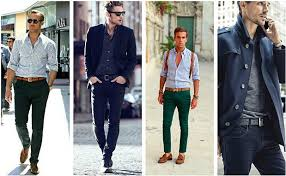F_M_suit jacket: (85, 19, 140, 87)
F_belt: (234, 114, 274, 127), (12, 76, 50, 85), (162, 85, 192, 96), (95, 74, 118, 85)
F_dress pants: (89, 86, 123, 164)
